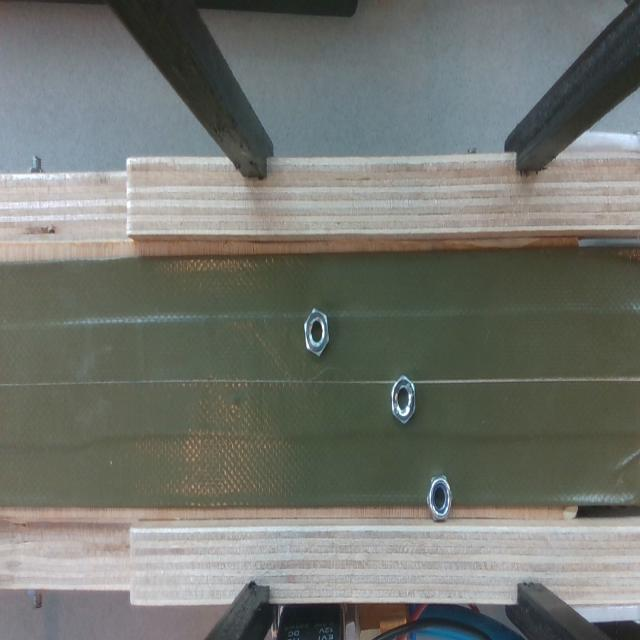Nut: (304, 309, 329, 356), (391, 376, 415, 423), (428, 476, 452, 521)
